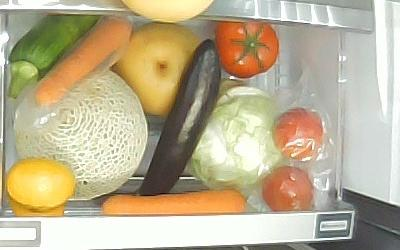cabbage: (190, 79, 286, 193)
carrot: (101, 189, 245, 215)
carrot_vinyl: (35, 17, 133, 104)
eggplant: (137, 39, 222, 195)
melon: (12, 67, 147, 200)
pear: (112, 21, 203, 118)
prune_vinyl: (273, 107, 324, 160), (260, 165, 314, 210)
tangerine: (5, 157, 76, 210), (9, 199, 65, 217)
tomato: (215, 20, 279, 78)
zucchini: (8, 14, 101, 100)
